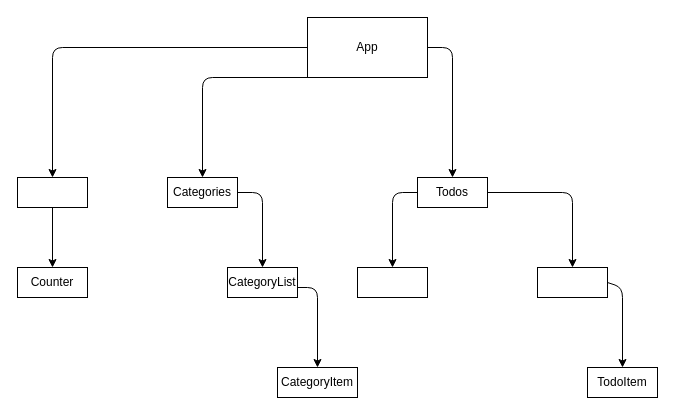
The diagram is 675 pixels wide and 415 high, and some of its shapes have lost their labels. Each missing label, with the centre of its shape:
"Header" belongs at point 52,192.
"InputForm" belongs at point 392,282.
"TodosList" belongs at point 572,282.
